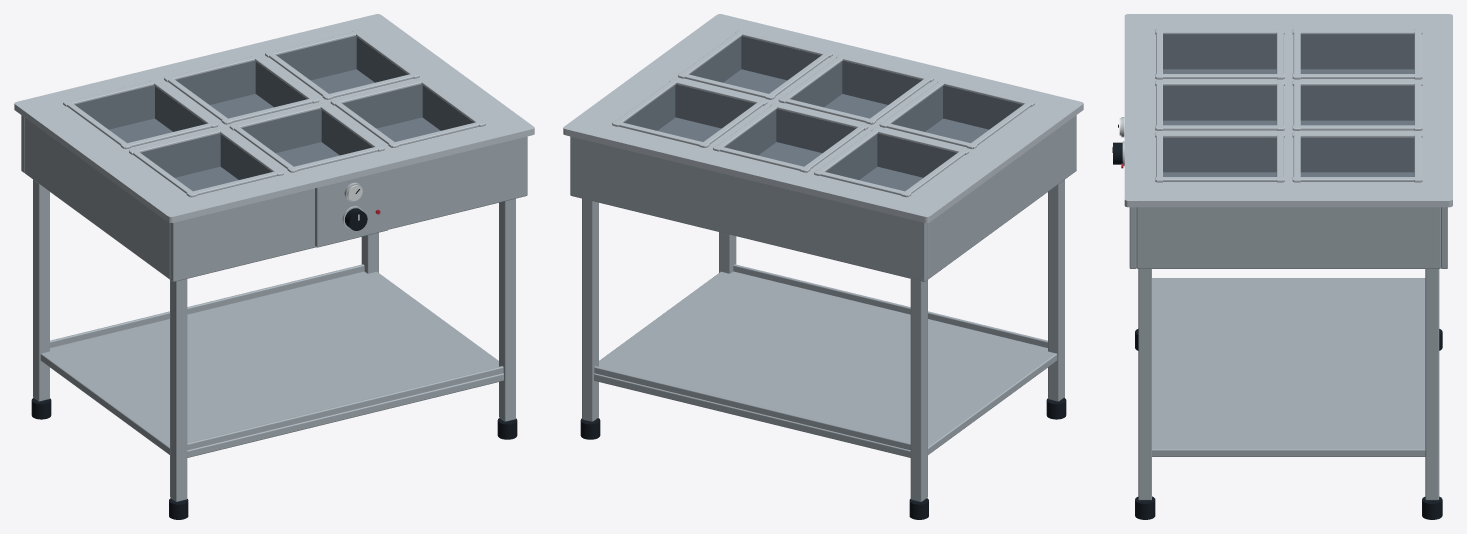
File: tavola-config-6-gas-open-v1.glb
The picture shows the model from 3 angles, left to right: view 1: azimuth 30°, elevation 25°; view 2: azimuth 150°, elevation 25°; view 3: azimuth 270°, elevation 25°; orthographic projection. The views are drawn at different scales.
Parts seen in each view (by area): view 1: Equipo_Acero_satinado, Equipo_Acero_pulido, Bandeja_1_Interior_acero, Bandeja_2_Interior_acero, Bandeja_5_Interior_acero, Bandeja_3_Interior_acero, Bandeja_6_Interior_acero, Bandeja_4_Interior_acero, Controles_gas_Acero_satinado, Bandeja_6_Acero_pulido, Bandeja_2_Acero_pulido, Bandeja_5_Acero_pulido (+4 smaller); view 2: Equipo_Acero_satinado, Equipo_Acero_pulido, Bandeja_2_Interior_acero, Bandeja_4_Interior_acero, Bandeja_5_Interior_acero, Bandeja_3_Interior_acero, Bandeja_6_Interior_acero, Bandeja_1_Interior_acero, Bandeja_3_Acero_pulido, Bandeja_2_Acero_pulido, Bandeja_5_Acero_pulido, Bandeja_6_Acero_pulido (+3 smaller); view 3: Equipo_Acero_satinado, Equipo_Acero_pulido, Bandeja_1_Interior_acero, Bandeja_2_Interior_acero, Bandeja_3_Interior_acero, Bandeja_4_Interior_acero, Bandeja_5_Interior_acero, Bandeja_6_Interior_acero, Bandeja_2_Acero_pulido, Bandeja_3_Acero_pulido, Bandeja_1_Acero_pulido, Bandeja_4_Acero_pulido (+3 smaller).
Part boxes in pixels (x1,y1,x2,y2): Equipo_Acero_satinado: (21,115,527,501); Equipo_Acero_pulido: (14,14,534,222); Bandeja_1_Interior_acero: (75,85,206,142); Bandeja_2_Interior_acero: (176,61,306,118); Bandeja_5_Interior_acero: (242,109,372,166); Bandeja_3_Interior_acero: (277,36,407,93); Bandeja_6_Interior_acero: (342,84,473,141); Bandeja_4_Interior_acero: (141,133,271,191); Controles_gas_Acero_satinado: (315,170,388,247); Bandeja_6_Acero_pulido: (330,78,485,147); Bandeja_2_Acero_pulido: (164,55,319,124); Bandeja_5_Acero_pulido: (229,103,384,172); Equipo_Acero_satinado: (570,115,1076,501); Equipo_Acero_pulido: (563,14,1083,222); Bandeja_2_Interior_acero: (725,109,855,166); Bandeja_4_Interior_acero: (891,85,1022,142); Bandeja_5_Interior_acero: (791,61,921,118); Bandeja_3_Interior_acero: (624,84,755,141); Bandeja_6_Interior_acero: (690,36,820,93); Bandeja_1_Interior_acero: (826,133,956,191); Bandeja_3_Acero_pulido: (612,78,767,147); Bandeja_2_Acero_pulido: (713,103,868,172); Bandeja_5_Acero_pulido: (778,55,933,124); Bandeja_6_Acero_pulido: (678,30,832,99); Equipo_Acero_satinado: (1129,207,1447,500); Equipo_Acero_pulido: (1124,14,1452,207); Bandeja_1_Interior_acero: (1300,34,1414,73); Bandeja_2_Interior_acero: (1300,86,1414,125); Bandeja_3_Interior_acero: (1300,137,1414,176); Bandeja_4_Interior_acero: (1163,34,1276,73); Bandeja_5_Interior_acero: (1163,86,1276,125); Bandeja_6_Interior_acero: (1163,137,1276,176); Bandeja_2_Acero_pulido: (1292,80,1422,130); Bandeja_3_Acero_pulido: (1292,132,1422,182); Bandeja_1_Acero_pulido: (1292,29,1422,79); Bandeja_4_Acero_pulido: (1155,29,1284,79).
Size of the model in its own units: 1.12 by 0.9185 by 0.867.
